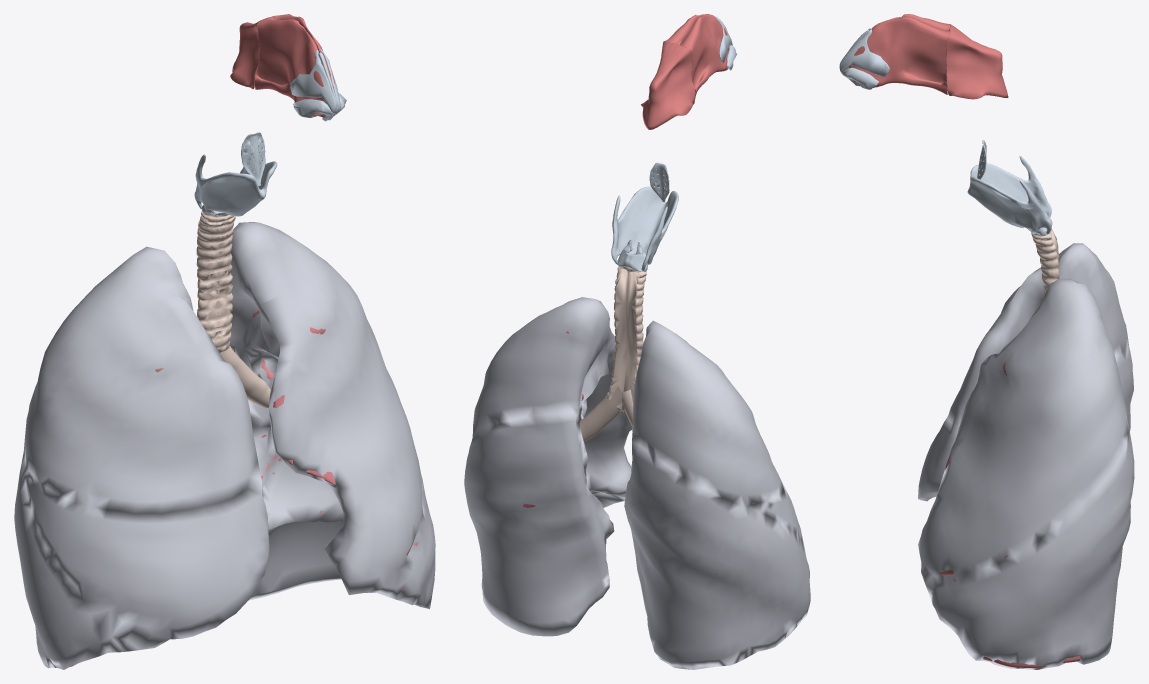
Rendered from female-respiratory.glb.
3 views of the same model, side by side, from view 1: azimuth 30°, elevation 25°; view 2: azimuth 150°, elevation 25°; view 3: azimuth 270°, elevation 25° (orthographic). The views are drawn at different scales.
Parts seen in each view (by area): view 1: Pleura, Trachea, Mucosa_of_nasal_cavity, Thyroid_cartilage, Nasopharynx, Lateral_process_of_nasal_septal_cartilage_R, Left_main_bronchus, Epiglottis; view 2: Pleura, Trachea, Thyroid_cartilage, Nasopharynx, Mucosa_of_nasal_cavity, Left_main_bronchus, Epiglottis; view 3: Pleura, Mucosa_of_nasal_cavity, Thyroid_cartilage, Nasopharynx, Trachea, Lateral_process_of_nasal_septal_cartilage_L, Major_alar_cartilage_L.
Part boxes in pixels (x1,y1,x2,y2): Pleura: [14, 222, 435, 669]; Trachea: [196, 211, 235, 352]; Mucosa_of_nasal_cavity: [254, 14, 334, 117]; Thyroid_cartilage: [194, 146, 277, 216]; Nasopharynx: [230, 15, 280, 89]; Lateral_process_of_nasal_septal_cartilage_R: [290, 50, 336, 113]; Left_main_bronchus: [220, 347, 270, 408]; Epiglottis: [241, 132, 265, 185]; Pleura: [464, 297, 810, 669]; Trachea: [606, 266, 646, 411]; Thyroid_cartilage: [611, 186, 678, 271]; Nasopharynx: [641, 41, 694, 129]; Mucosa_of_nasal_cavity: [664, 14, 728, 100]; Left_main_bronchus: [579, 386, 622, 442]; Epiglottis: [649, 162, 669, 202]; Pleura: [918, 243, 1134, 669]; Mucosa_of_nasal_cavity: [848, 14, 950, 94]; Thyroid_cartilage: [967, 155, 1051, 234]; Nasopharynx: [946, 24, 1008, 99]; Trachea: [1031, 228, 1059, 295]; Lateral_process_of_nasal_septal_cartilage_L: [839, 29, 889, 76]; Major_alar_cartilage_L: [842, 67, 878, 89].
Bounding box in the file's own units: 0.2233 × 0.3782 × 0.1707.
